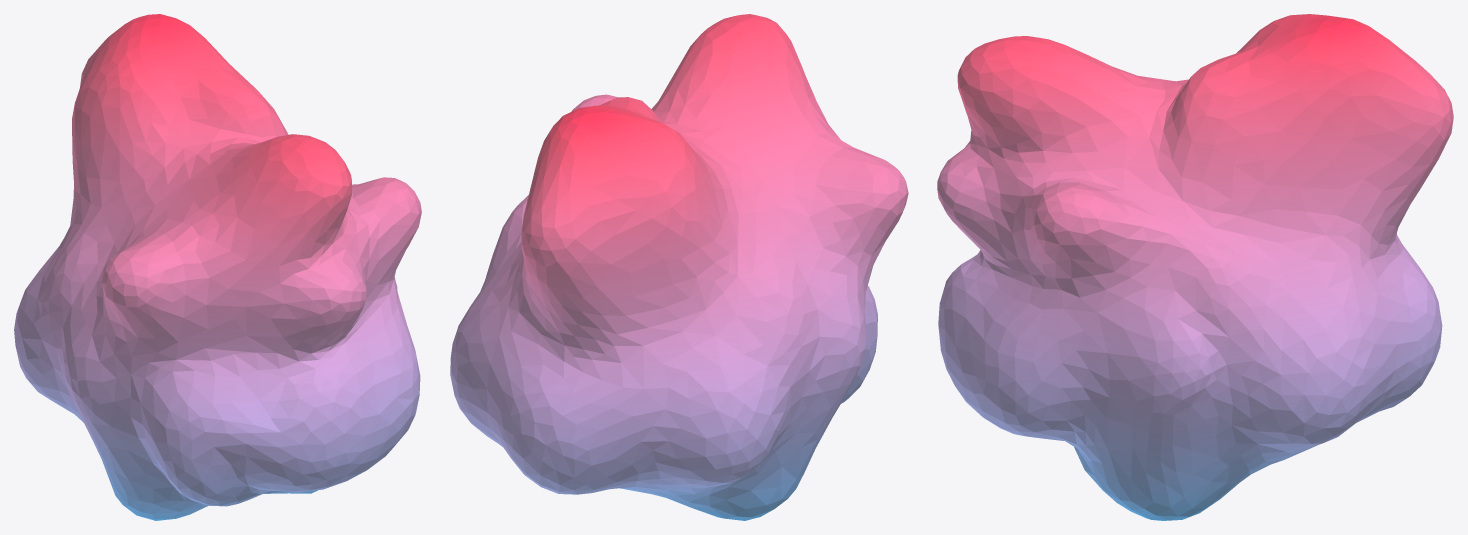
The model's file is 33_cyb_laser_gradient_fish_scales_2924_2026_10_03_5cead8.glb.
The picture shows the model from 3 angles, left to right: view 1: azimuth 30°, elevation 25°; view 2: azimuth 150°, elevation 25°; view 3: azimuth 270°, elevation 25°; orthographic projection. The views are drawn at different scales.
Visible parts, largest first — view 1: geometry_0; view 2: geometry_0; view 3: geometry_0.
Boxes of the visible parts, box(x1,y1,x2,y2) form: geometry_0: box(14, 14, 421, 520); geometry_0: box(450, 14, 908, 520); geometry_0: box(937, 14, 1453, 520).
Size of the model in its own units: 0.6743 by 0.8181 by 0.8327.
